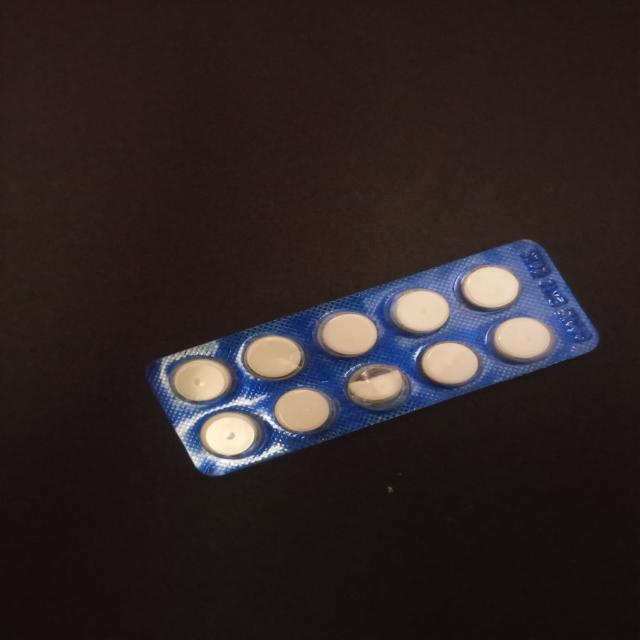defect: (342, 362, 412, 414)
